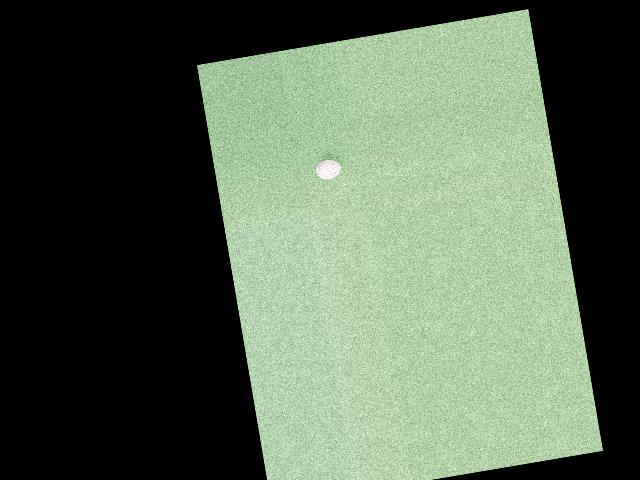egg: (313, 157, 342, 181)
